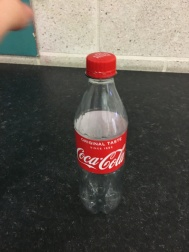bottle_red: (58, 44, 137, 219)
